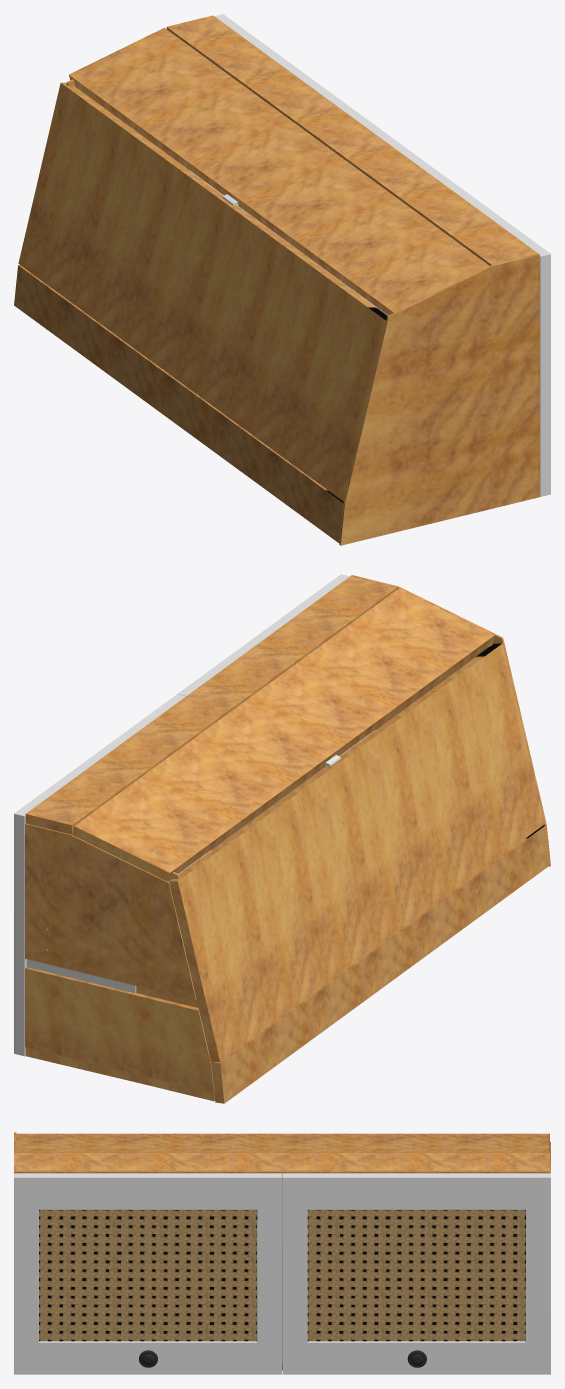
Rendered from upper-cabinet-six.glb.
The picture shows the model from 3 angles, top to bottom: view 1: azimuth 30°, elevation 25°; view 2: azimuth 150°, elevation 25°; view 3: azimuth 270°, elevation 25°; orthographic projection. The views are drawn at different scales.
Visible parts, largest first — view 1: Plane.005; view 2: Plane.005; view 3: Plane.005.
Boxes of the visible parts, x1,y1,x2,y2 form: Plane.005: (14,14,550,545); Plane.005: (14,574,550,1103); Plane.005: (14,1132,550,1374).
Size of the model in its own units: 0.3542 by 0.384 by 0.9401.
4 materials, 2 textured.
